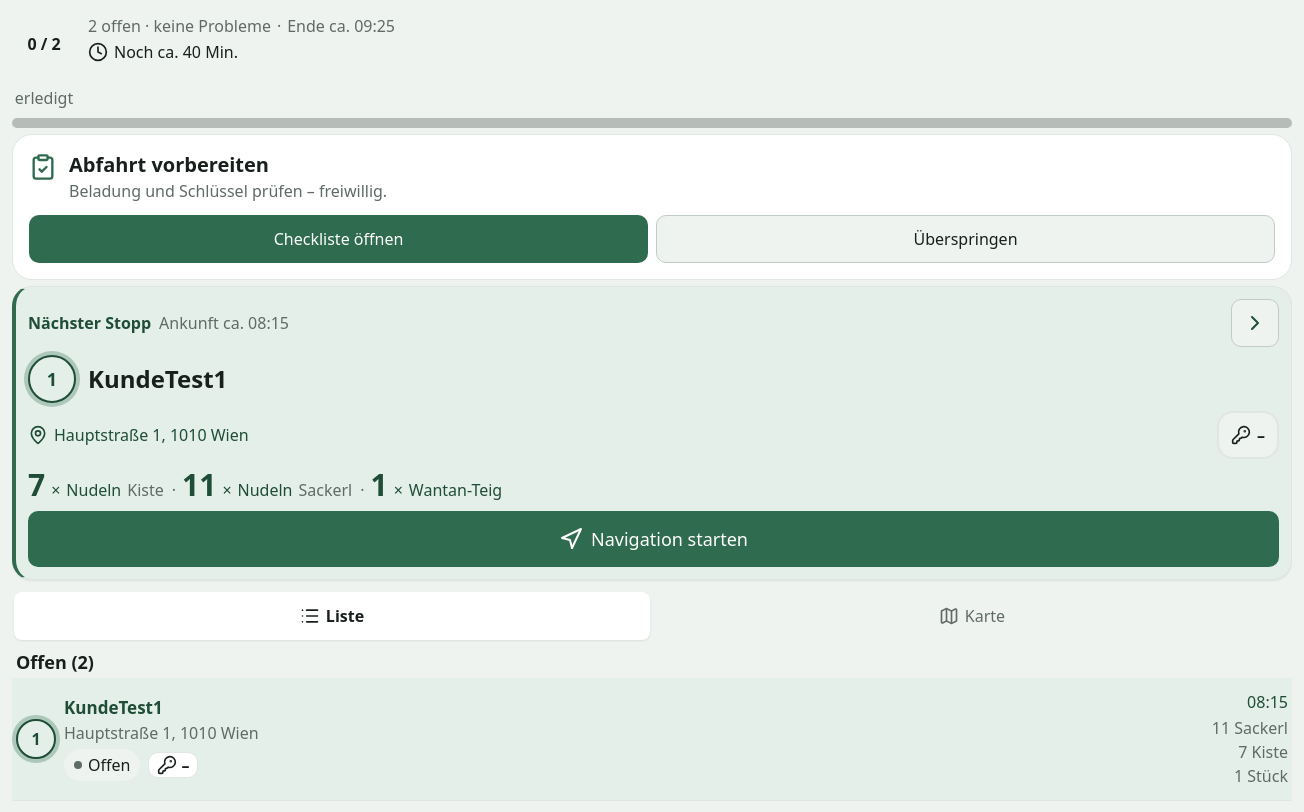
Test: departure checklist in de › skipping records the departure only
Click the button with test id "departure-skip": point(966, 239) [656,215,1275,263]
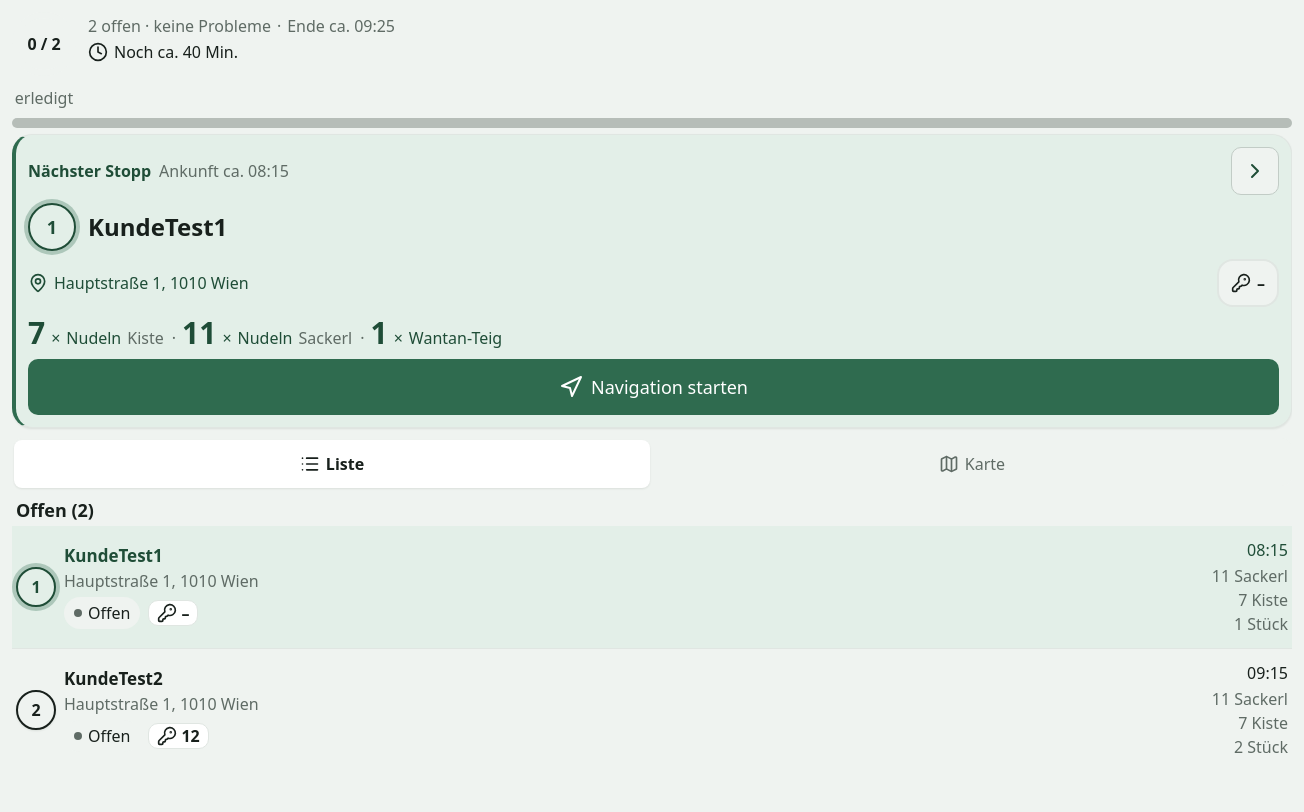
Expected: the element with test id "departure-card" is gone
